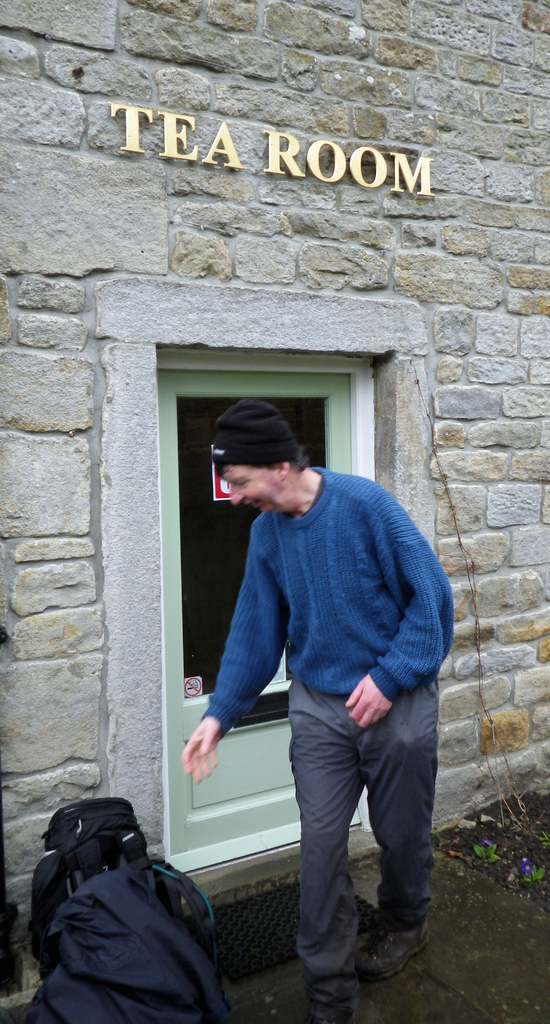Footwear: (353, 906, 424, 981), (306, 977, 358, 1023)
